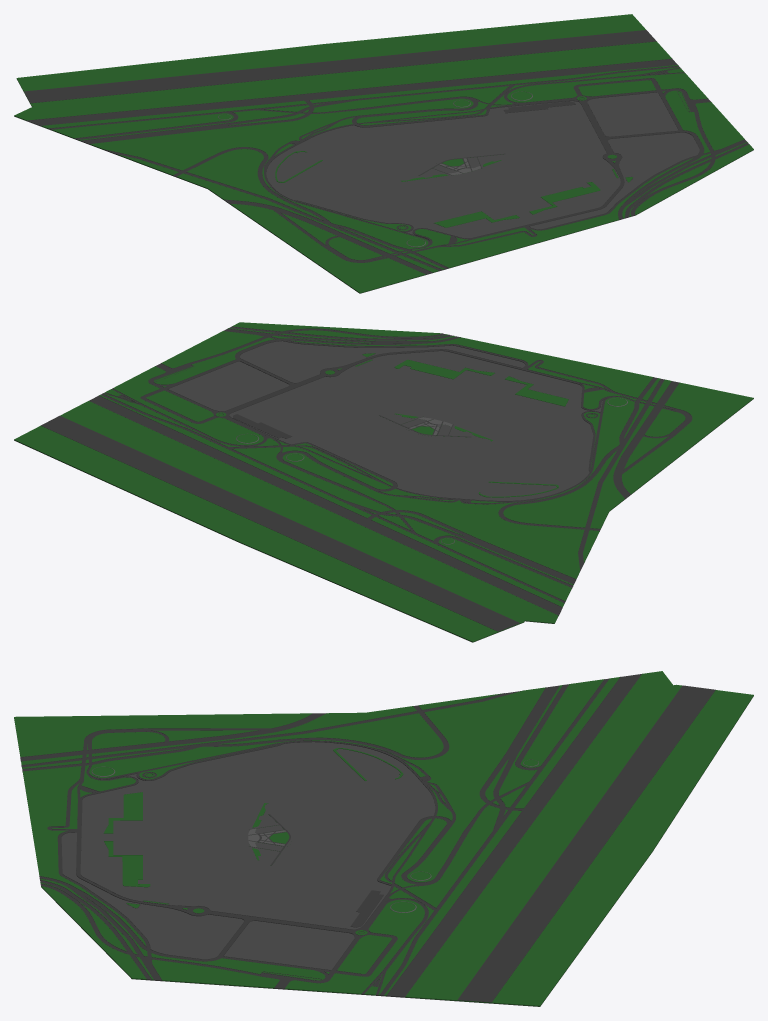
3 views of the same model, one above another, from view 1: azimuth 30°, elevation 25°; view 2: azimuth 150°, elevation 25°; view 3: azimuth 270°, elevation 25° (orthographic). The views are drawn at different scales.
Parts seen in each view (by area): view 1: Green, Ground, Road, Enter; view 2: Green, Ground, Road, Enter; view 3: Green, Ground, Road, Enter.
Boxes of the visible parts, box(x1,y1,x2,y2) form: Green: box(14, 14, 753, 293); Ground: box(14, 82, 753, 293); Road: box(24, 30, 749, 274); Enter: box(401, 153, 505, 181); Green: box(14, 322, 753, 642); Ground: box(14, 341, 753, 642); Road: box(41, 326, 692, 631); Enter: box(379, 413, 492, 441); Green: box(14, 671, 753, 1006); Ground: box(40, 696, 753, 1006); Road: box(20, 674, 715, 1002); Enter: box(248, 803, 293, 865).
Size of the model in its own units: 10.05 by 0.025 by 9.38.
